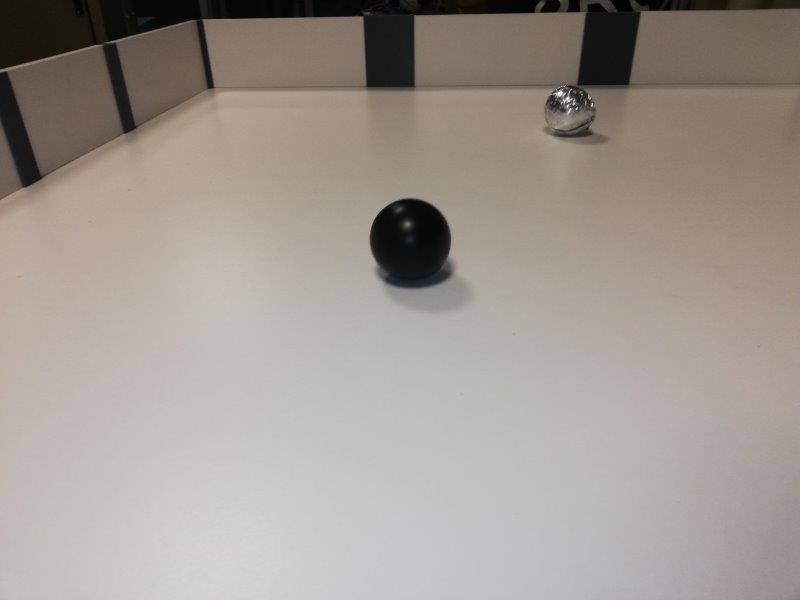bianca: (542, 84, 596, 135)
nera: (370, 198, 450, 281)
